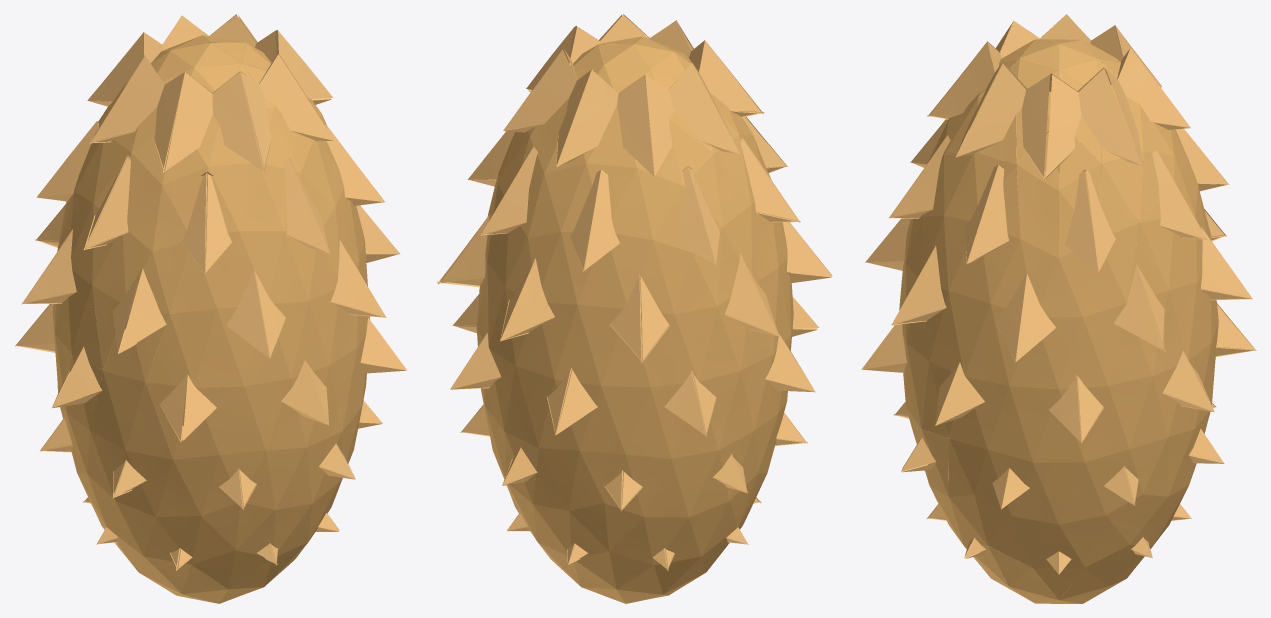
Rendered from xmas_pinecone.glb.
The picture shows the model from 3 angles, left to right: view 1: azimuth 30°, elevation 25°; view 2: azimuth 150°, elevation 25°; view 3: azimuth 270°, elevation 25°; orthographic projection.
Parts seen in each view (by area): view 1: Pinecone; view 2: Pinecone; view 3: Pinecone.
Boxes of the visible parts, x1,y1,x2,y2 form: Pinecone: (15, 14, 406, 603); Pinecone: (437, 14, 832, 603); Pinecone: (861, 14, 1256, 603).
Bounding box in the file's own units: 1.23 × 1.9 × 1.23.
